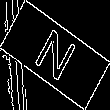N_SW: (29, 23, 81, 87)
